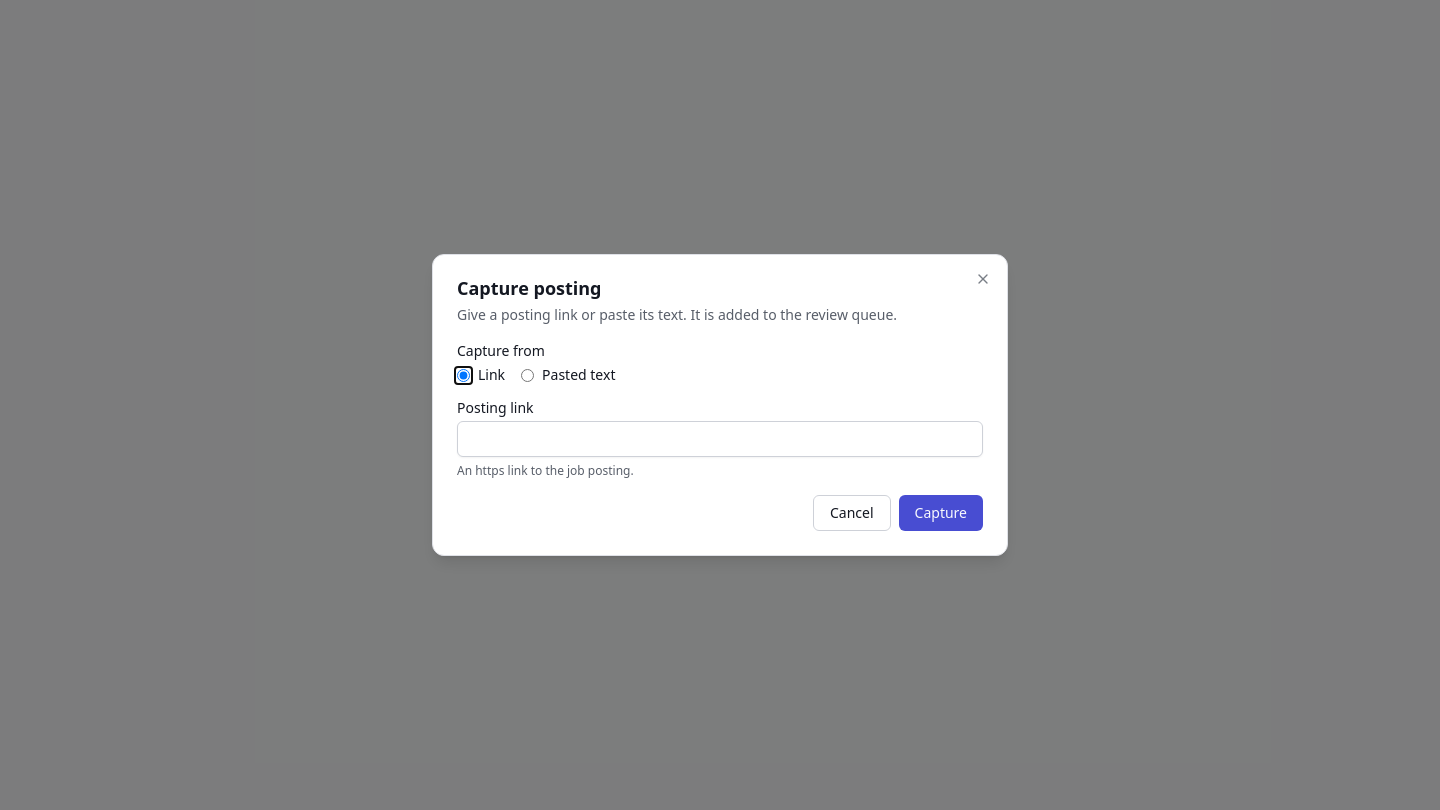
Test: CaptureDialog › a 422 prohibited host shows the server hint and offers pasting the text
The image size is (1440, 810).
Type "https://www.linkedin.com/jobs/view/1/" into the field labelled "Posting link".
click(720, 439); type("https://www.linkedin.com/jobs/view/1/")  # box [457,421,983,457]
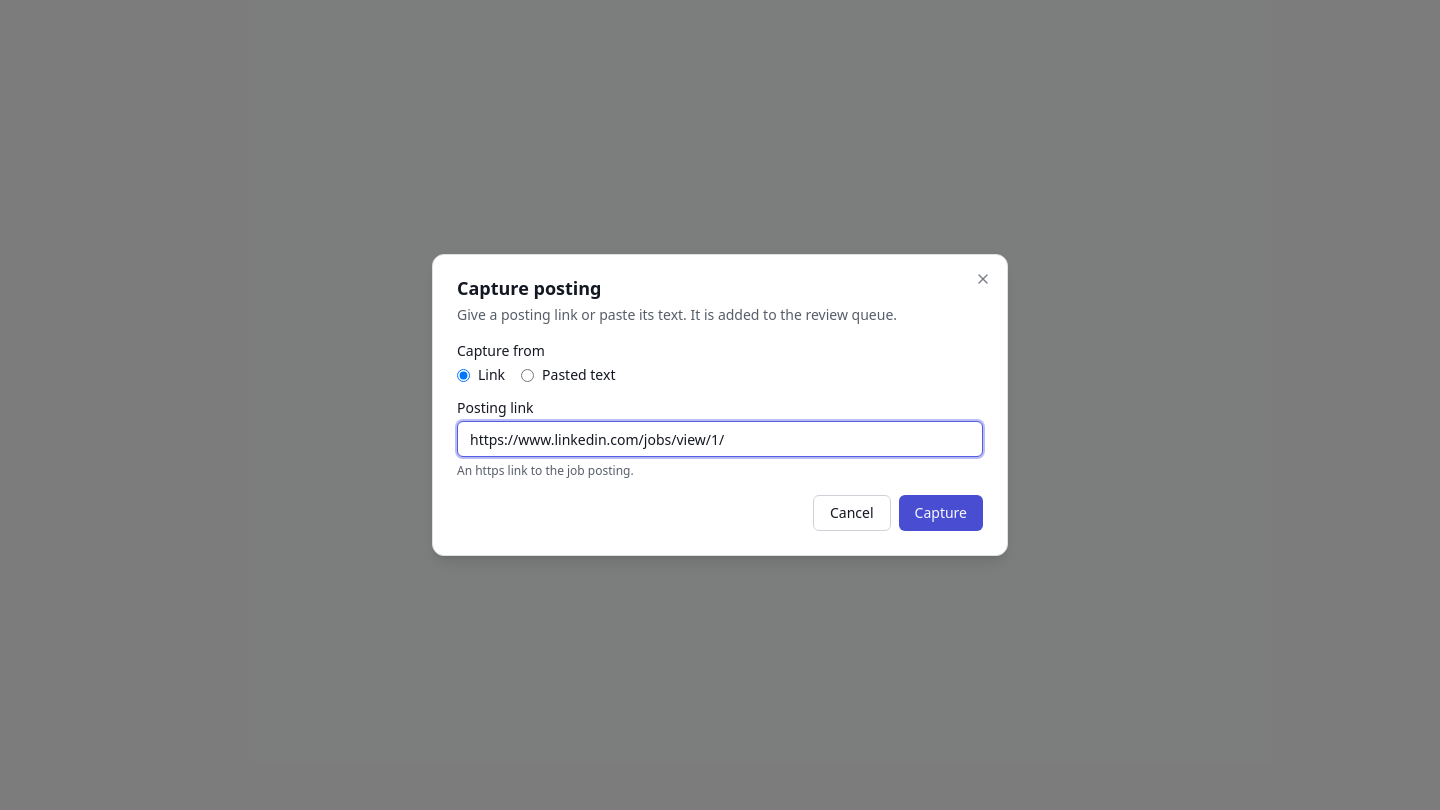
Click the button "Capture".
click(941, 513)  # box [899,495,983,531]
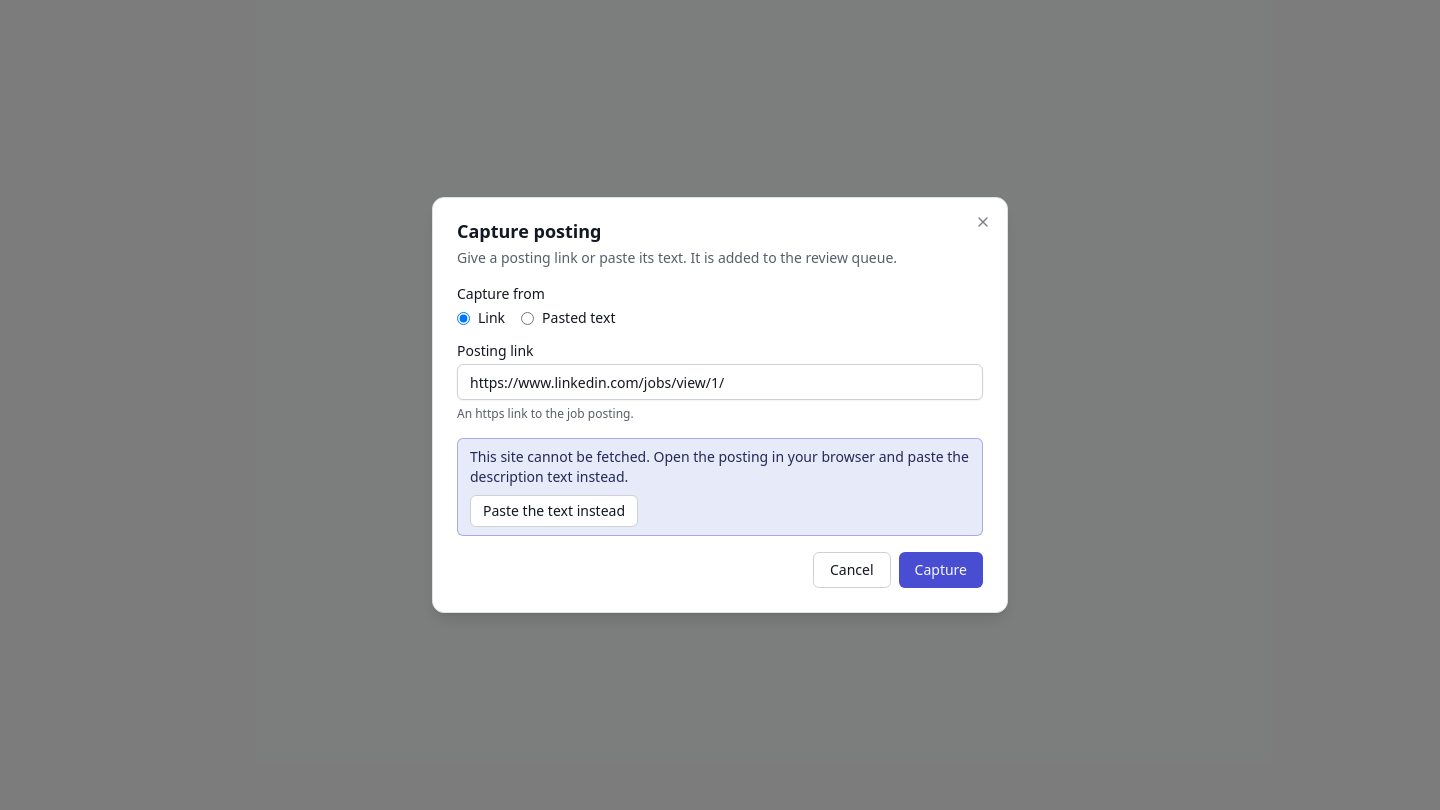
Check: the text "This site cannot be fetched. Open the posting in your browser and paste the description text instead." is shown, box [470,447,969,486]
Click the button "Paste the text instead".
click(554, 511)  # box [470,495,638,527]
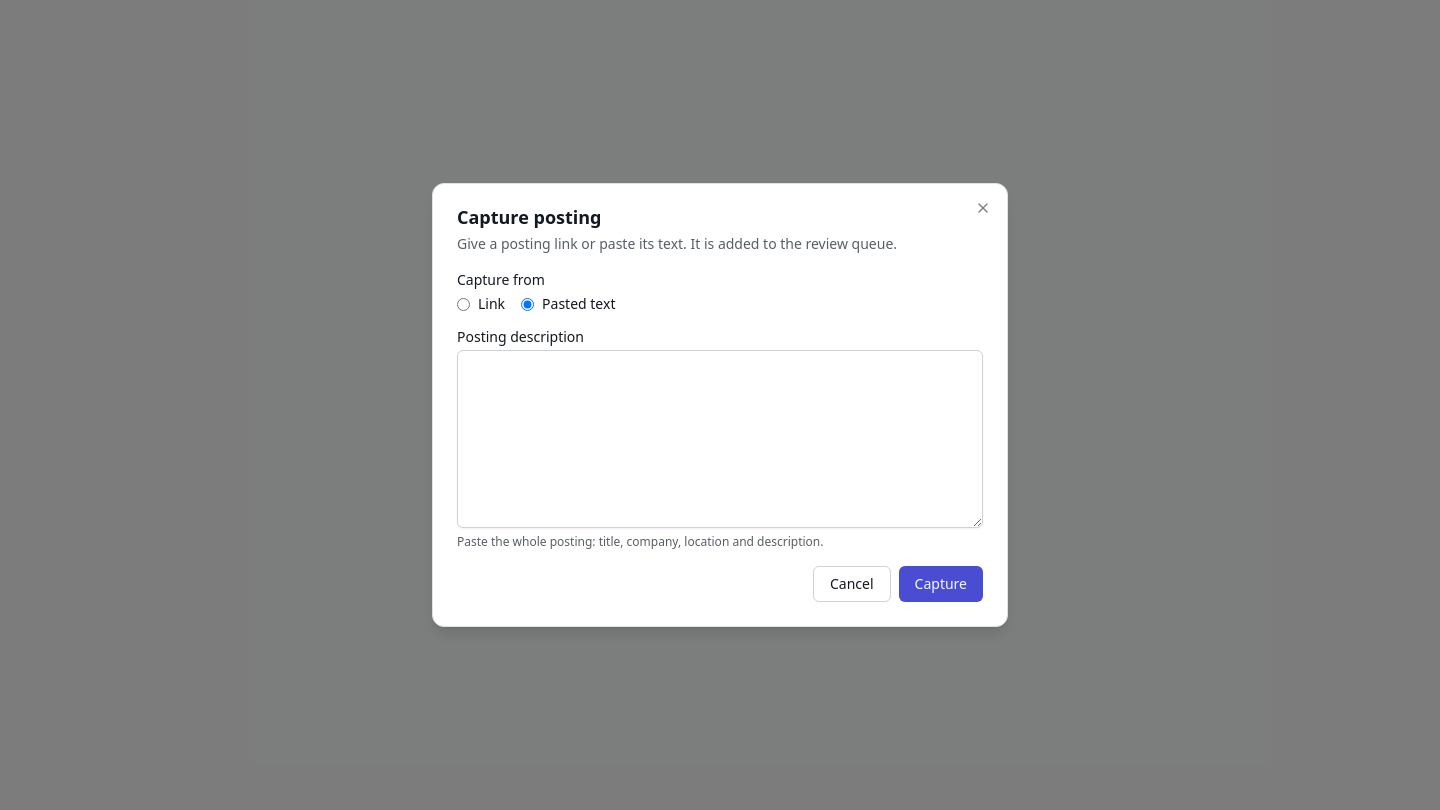
Check: the text box labelled "Posting description" is shown, box [457,350,983,528]
Check: the text "This site cannot be fetched. Open the posting in your browser and paste the description text instead." is gone
